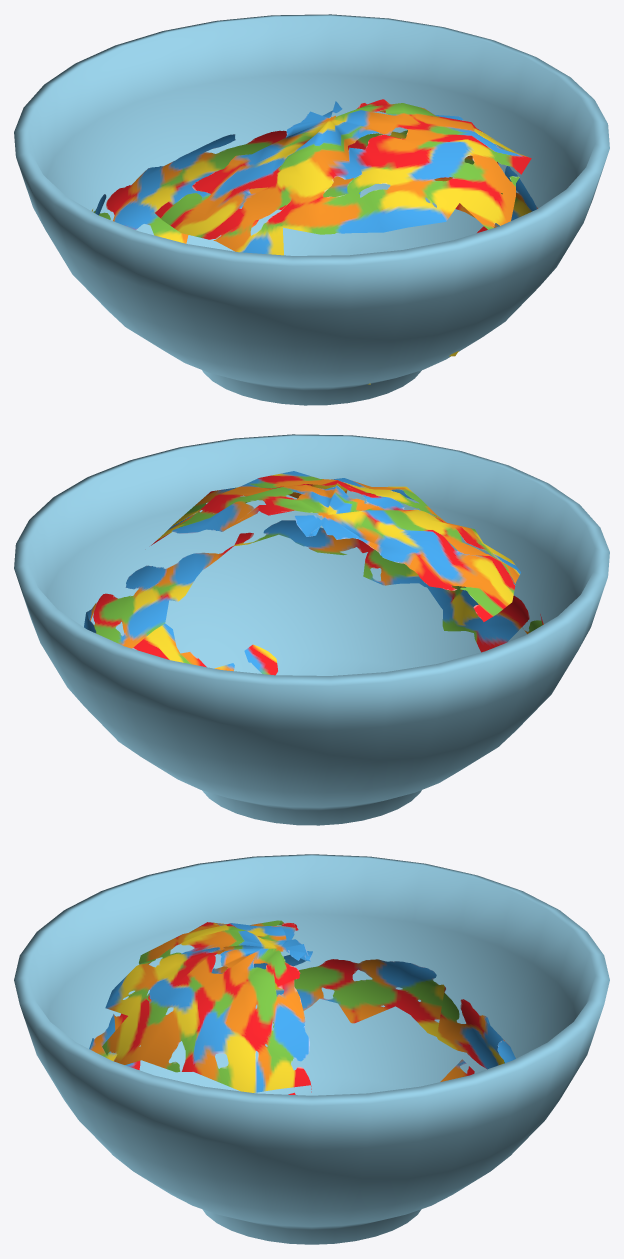
File: Bowl of Sprinkles.fbx
3 renders of one model, top to bottom at view 1: azimuth 30°, elevation 25°; view 2: azimuth 150°, elevation 25°; view 3: azimuth 270°, elevation 25°, orthographic.
Parts seen in each view (by area): view 1: Bowl of Sprinkles; view 2: Bowl of Sprinkles; view 3: Bowl of Sprinkles.
Boxes of the visible parts, <box> form: Bowl of Sprinkles: <box>14,14,609,405</box>; Bowl of Sprinkles: <box>14,434,609,825</box>; Bowl of Sprinkles: <box>14,854,609,1244</box>.
Size of the model in its own units: 44.24 by 21.24 by 44.24.
